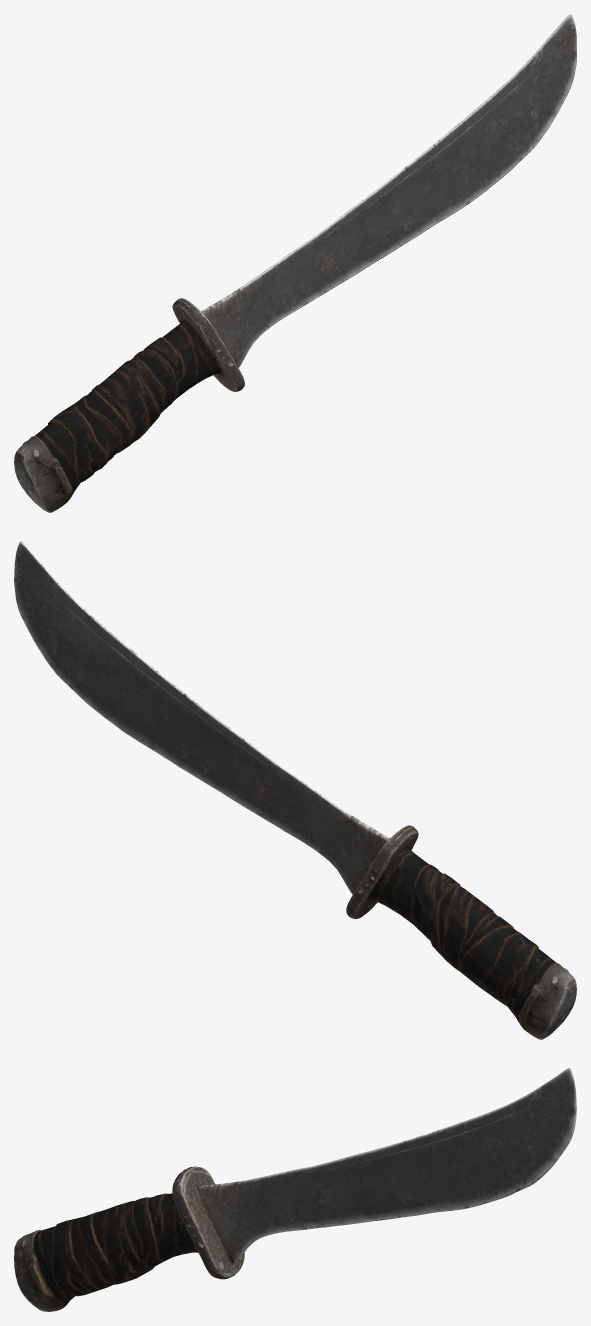
File: machette_decor_5k.glb
The picture shows the model from 3 angles, top to bottom: view 1: azimuth 30°, elevation 25°; view 2: azimuth 150°, elevation 25°; view 3: azimuth 330°, elevation 25°; orthographic projection.
Visible parts, largest first — view 1: world; view 2: world; view 3: world.
Part boxes in pixels (left/top/right/bottom): world: left=14, top=14, right=576, bottom=512; world: left=14, top=541, right=576, bottom=1039; world: left=14, top=1068, right=576, bottom=1311.
Size of the model in its own units: 1 by 0.6332 by 0.0952.
1 material, 1 textured.
